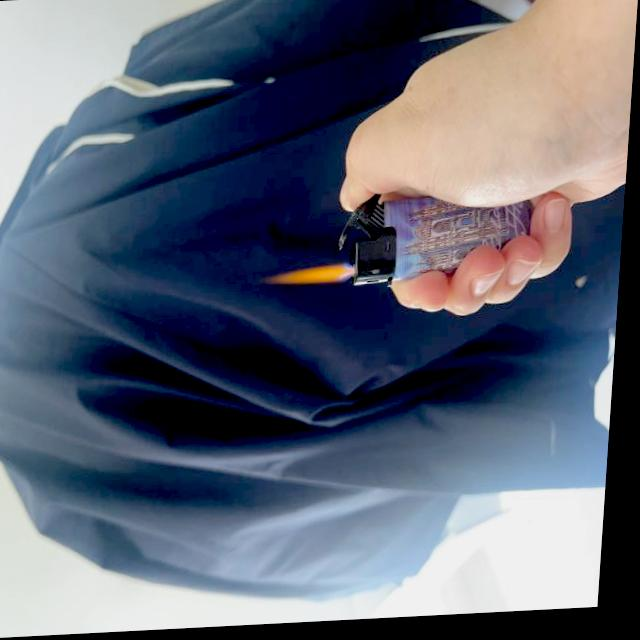Fire: (274, 262, 357, 291)
